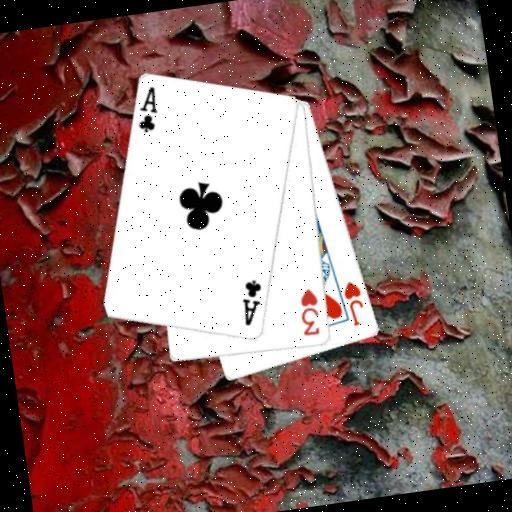3H: (294, 285, 324, 338)
AC: (236, 276, 269, 328), (131, 84, 163, 137)
JH: (340, 277, 368, 329)
